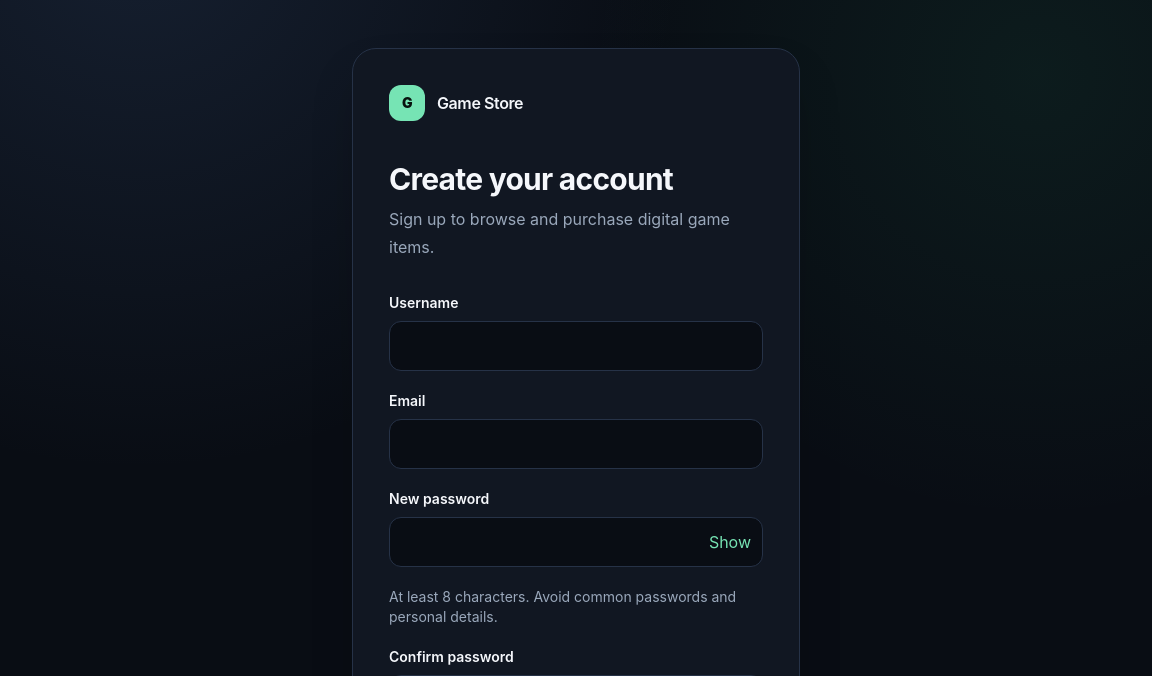
Test case: offers sign in without resend after signup when verification is disabled
Type "customer" into the field labelled "Username" at (576, 346), box x1=389 y1=321 x2=763 y2=371
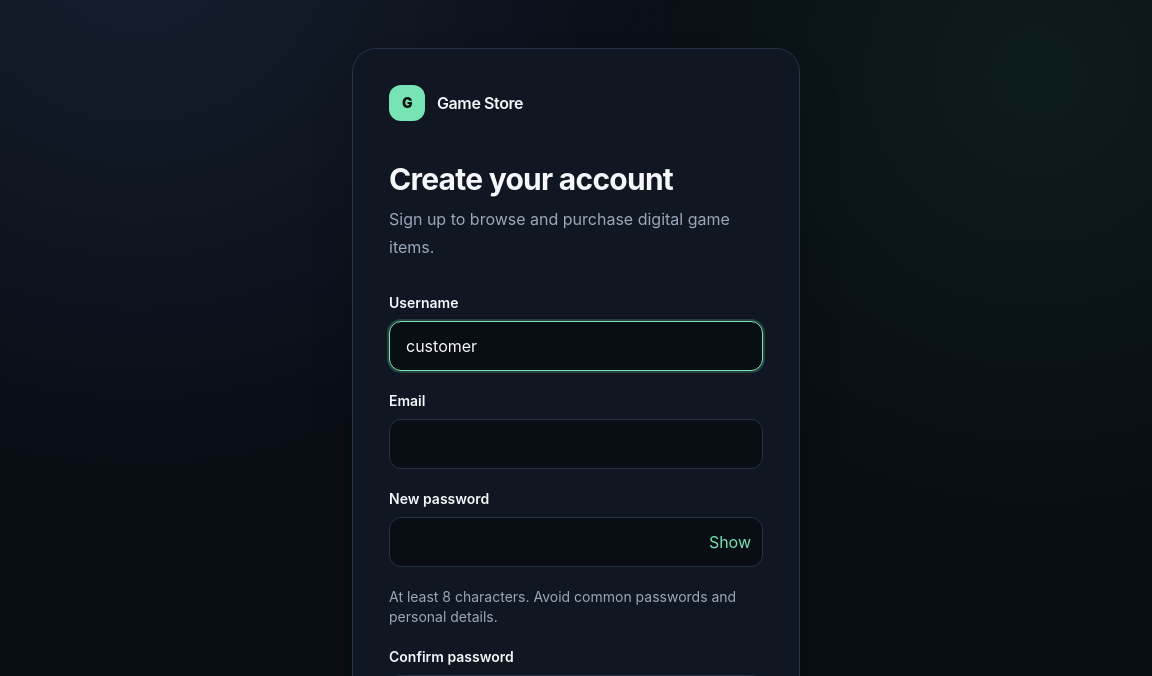
Type "customer@example.com" into the field labelled "Email" at (576, 444), box x1=389 y1=419 x2=763 y2=469
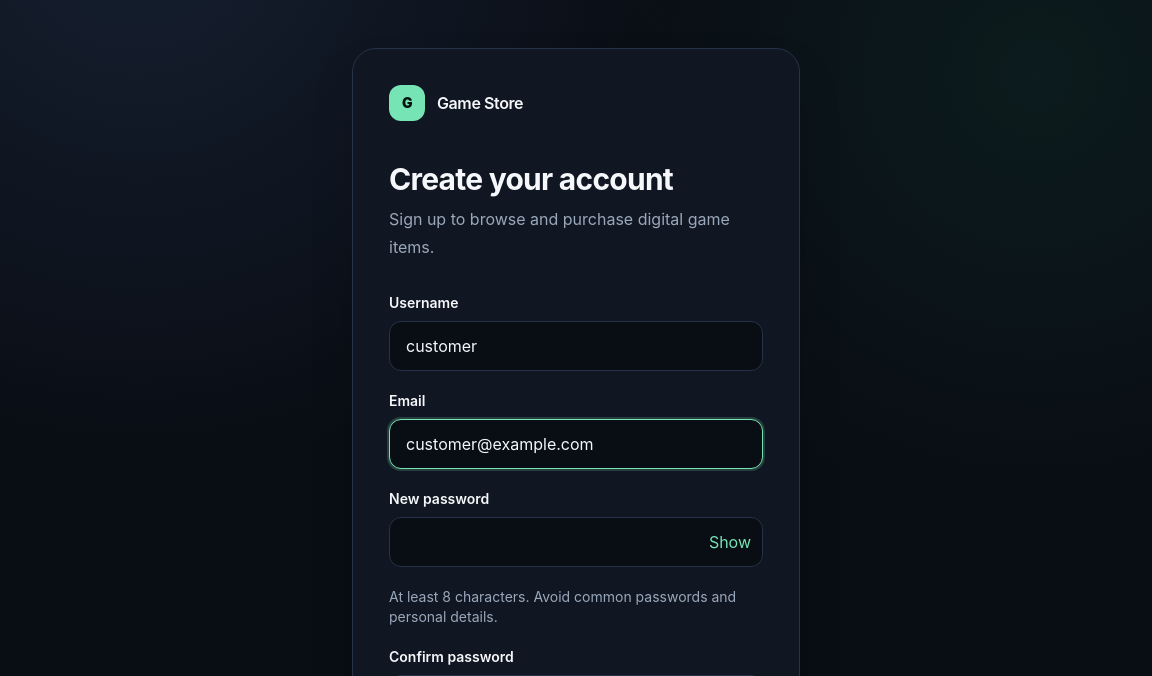
Type "River!lantern-5839" into the password field labelled "New password" at (576, 542), box x1=389 y1=517 x2=763 y2=567
(page scrolled)
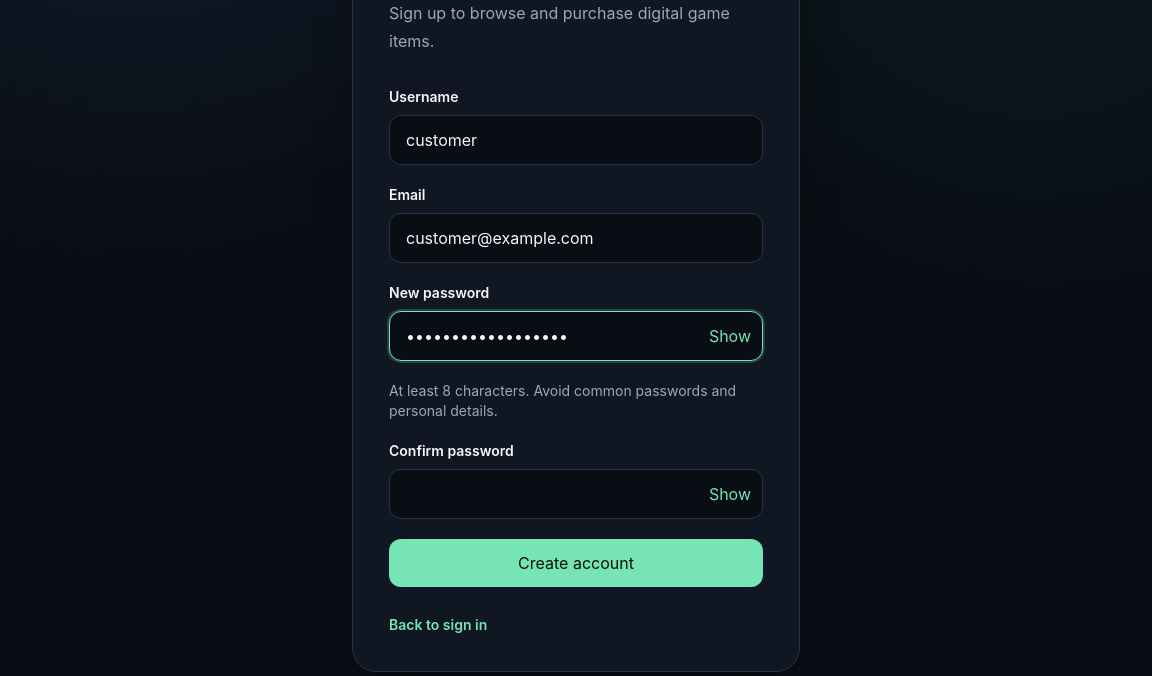
Type "River!lantern-5839" into the password field labelled "Confirm password" at (576, 494), box x1=389 y1=469 x2=763 y2=519
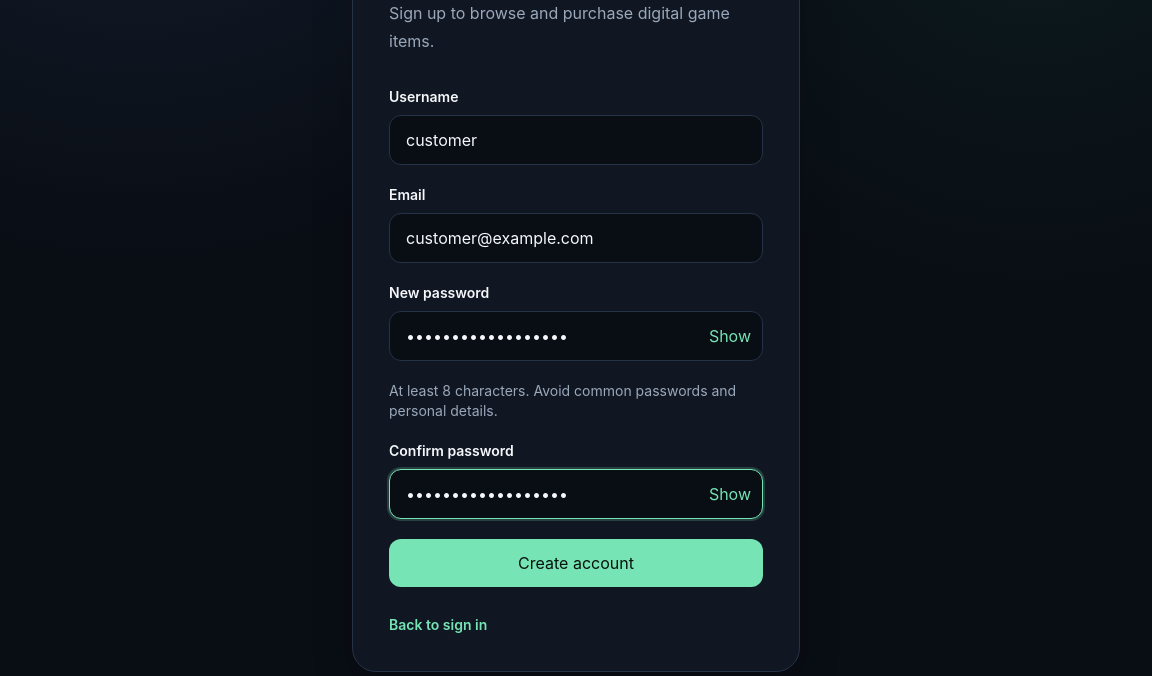
Click the button "Create account" at (576, 563), box x1=389 y1=539 x2=763 y2=587
(page scrolled)
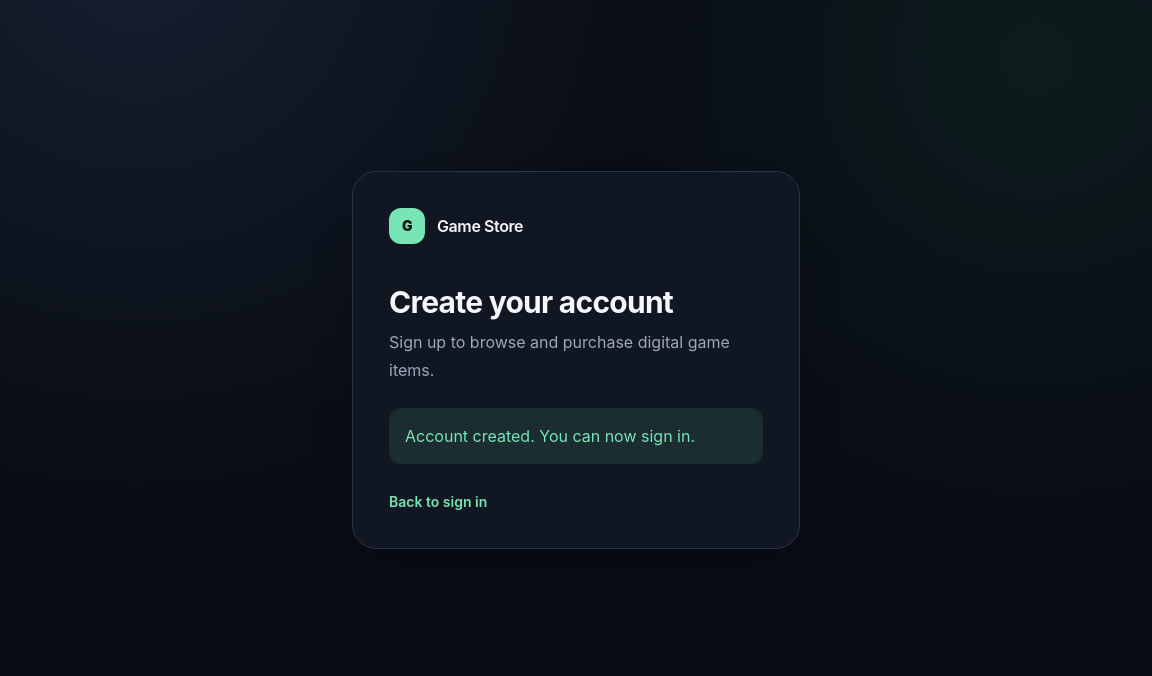
Expected: the message shows "You can now sign in.", x1=405 y1=426 x2=695 y2=446
Expected: the label "Resend verification email" is gone
